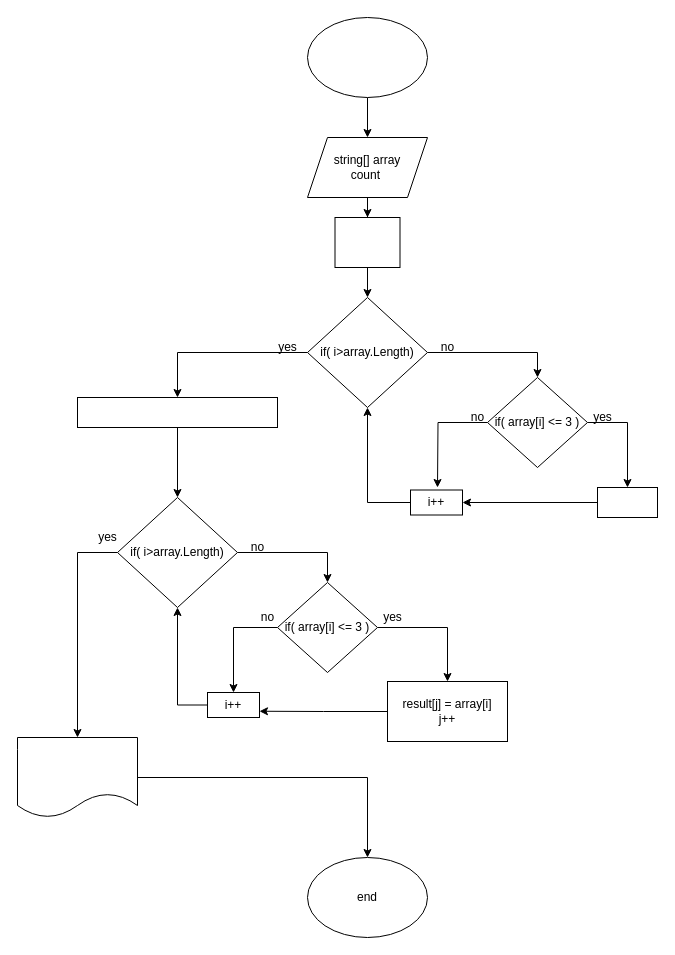
This 675x955 diagram has some shape labels left out. Here are the shapes that lost their labels. From the top down, the centre of each, then its label:
the point at 367,57: start
the point at 367,242: i = 0 count = 0 j = 0
the point at 177,412: string[] result = new string[count]
the point at 627,502: count++
the point at 77,777: Print result
